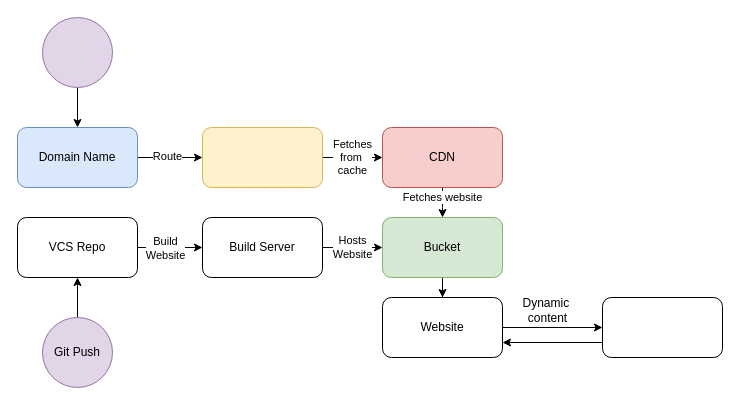
The diagram is 740 pixels wide and 405 high, and some of its shapes have lost their labels. Here are the shapes that lost their labels. From the top down, the centre of each, then its label:
At pixel 77 52: "Internet".
At pixel 262 157: "DNS Hosted Zone".
At pixel 662 327: "Serverless Function".
